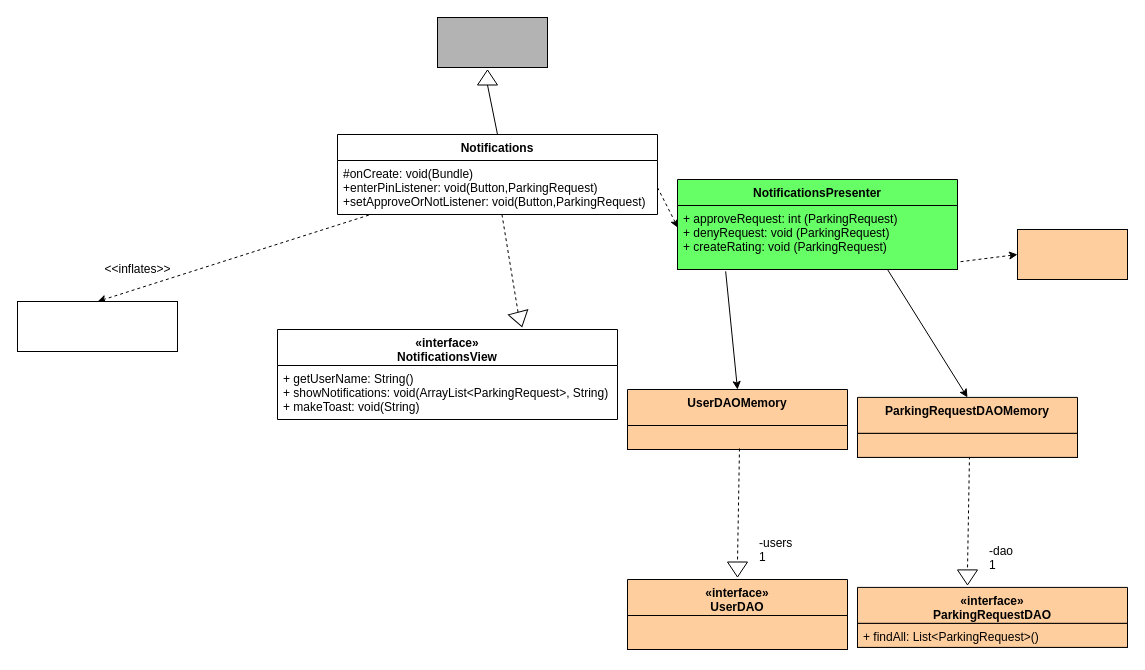
Some shapes in this 1145 by 670 pixel diagram are drawn without their labels. Each missing label, with the centre of its shape:
+ find: User(String): (x=737, y=632)
AppCompatActivity: (x=492, y=42)
ParkingRequest: (x=1072, y=254)
«layout» activity_notifications.xml: (x=97, y=326)
